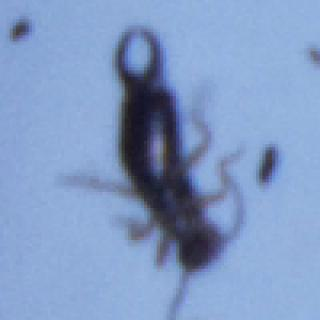earwig: (54, 13, 250, 320)
